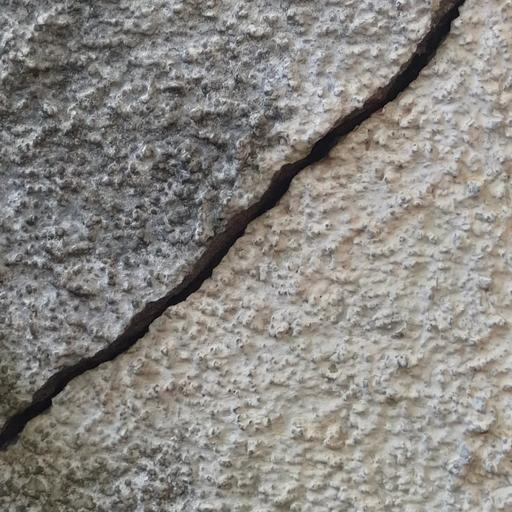major_crack: (6, 0, 499, 455)
